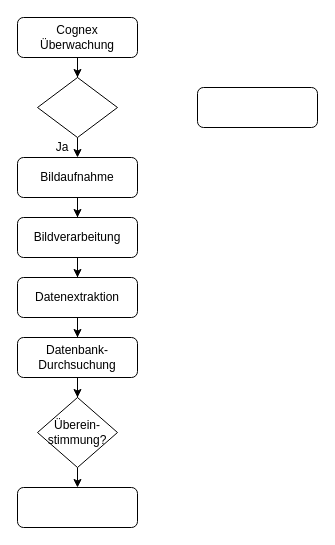
Some shapes in this 335 by 545 pixel diagram are drawn without their labels. Here are the shapes that lost their labels. From the top down, the centre of each, then its label:
the point at 77,107: Paket erkannt?
the point at 257,107: Fehlermeldung
the point at 77,507: Materialnummer drucken
